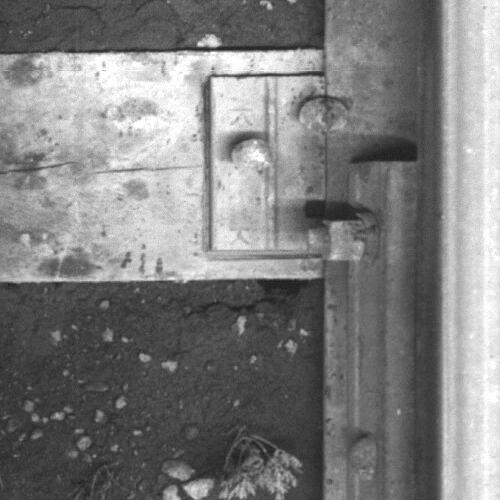do: (209, 74, 348, 250)
fp_beg: (348, 133, 416, 182)
hole_do: (296, 190, 336, 228)
rail: (440, 1, 500, 500)
tie_wood: (1, 51, 323, 284)
wood_crack: (1, 156, 205, 176)
